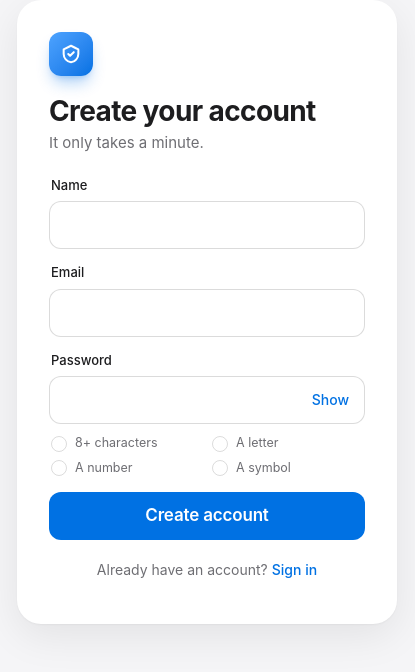
SignUpPage: server errors › 400 with details maps known fields and shows unknown ones in the alert
The width and height of the screenshot is (415, 672).
Type "  Ada  " into the field labelled "Name" at coordinates (207, 225), box x1=49 y1=201 x2=365 y2=249
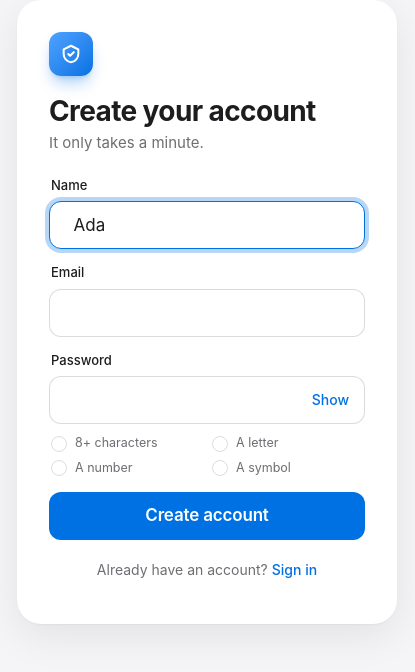
Type "Ada@Example.com" into the field labelled "Email" at coordinates (207, 313), box x1=49 y1=289 x2=365 y2=337
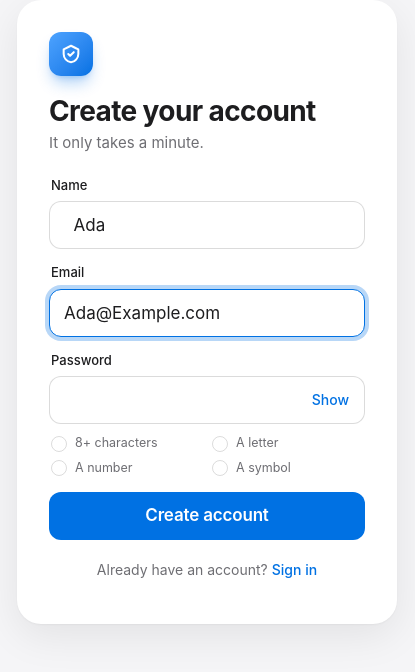
Type "Abcdef1!" into the password field labelled "Password" at coordinates (207, 400), box x1=49 y1=376 x2=365 y2=424
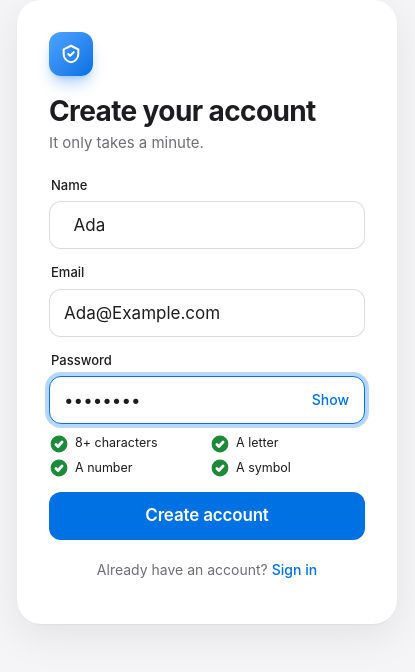
Click the button "Create account" at coordinates (207, 516), box x1=49 y1=492 x2=365 y2=540
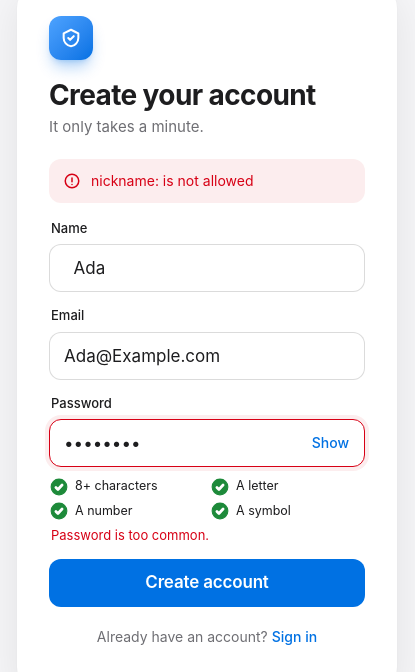
Result: the text "Password is too common." is shown at x1=51 y1=527 x2=209 y2=543
Result: the text "nickname: is not allowed" is shown at x1=91 y1=171 x2=254 y2=191
